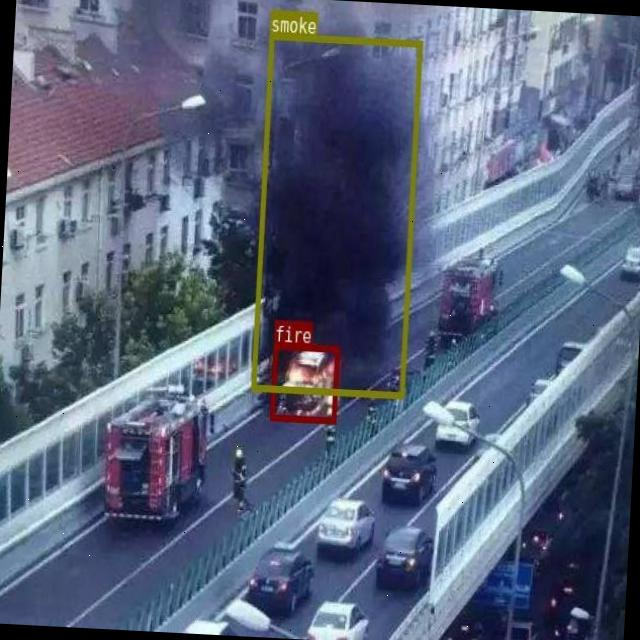fire: (268, 342, 338, 422)
smoke: (251, 32, 422, 397)
